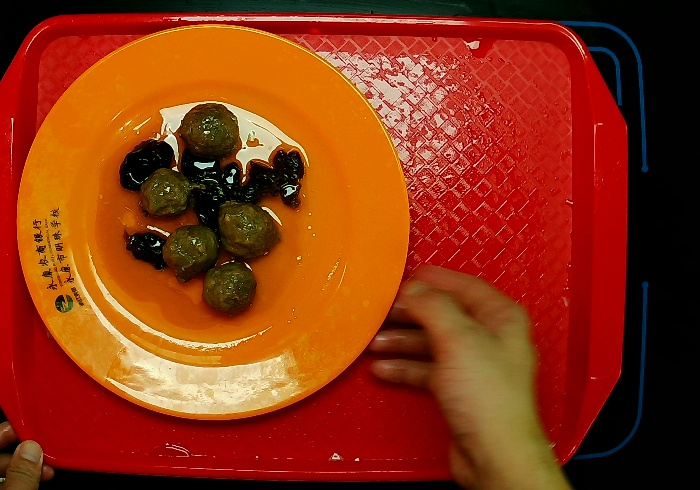YKMZ-Ju_Se_Mian_Pan: (10, 19, 417, 426)
